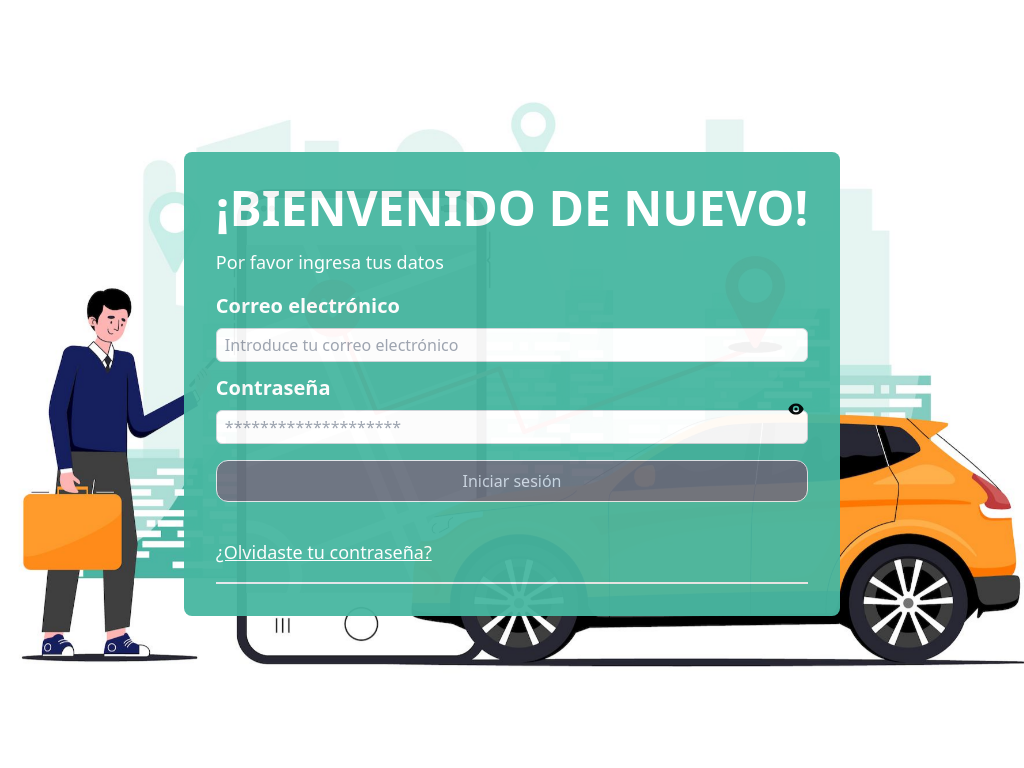
Scenario: Login › Mostrar error cuando faltan campos requeridos
The width and height of the screenshot is (1024, 768).
Click the button "Iniciar sesión" at (512, 481), box left=216, top=460, right=808, bottom=502
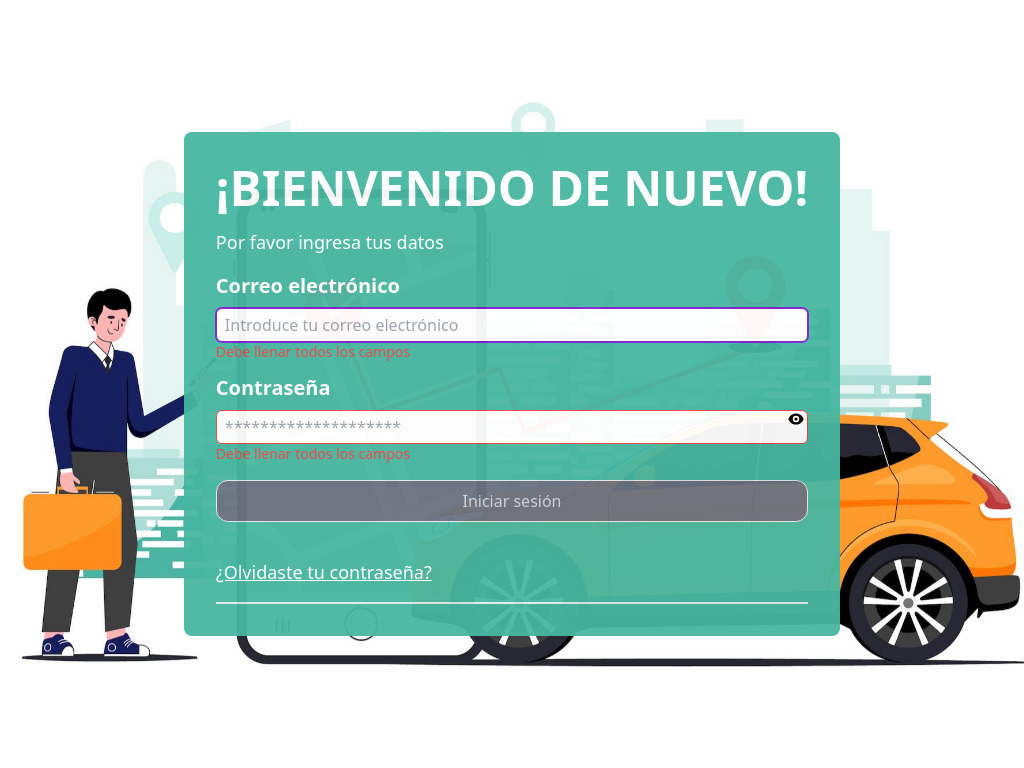
Now the text "Debe llenar todos los campos" below "Correo electrónico" is shown, box left=216, top=342, right=410, bottom=361
Now the 2nd text "Debe llenar todos los campos" is shown, box left=216, top=444, right=410, bottom=463
